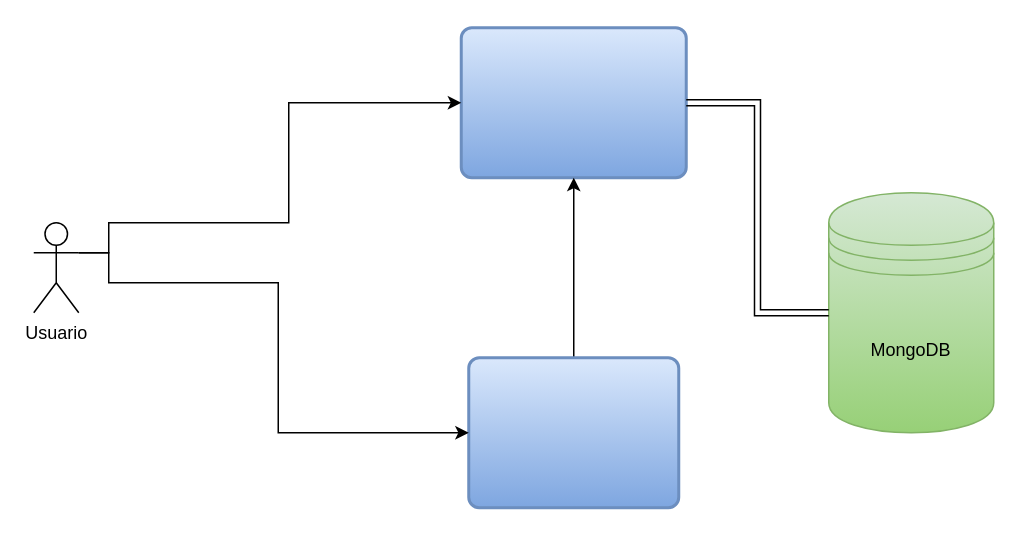
Some shapes in this 1020 by 534 pixel diagram are drawn without their labels. The shapes that lost their labels are listed below. From the top down, each one's centre as x and y in pixels, then its label:
At pixel 573 102: "Backoffice Swagger Rest API Java + Spring Boot".
At pixel 573 432: "Frontoffice Angular + JSP Java + Spring Boot".
